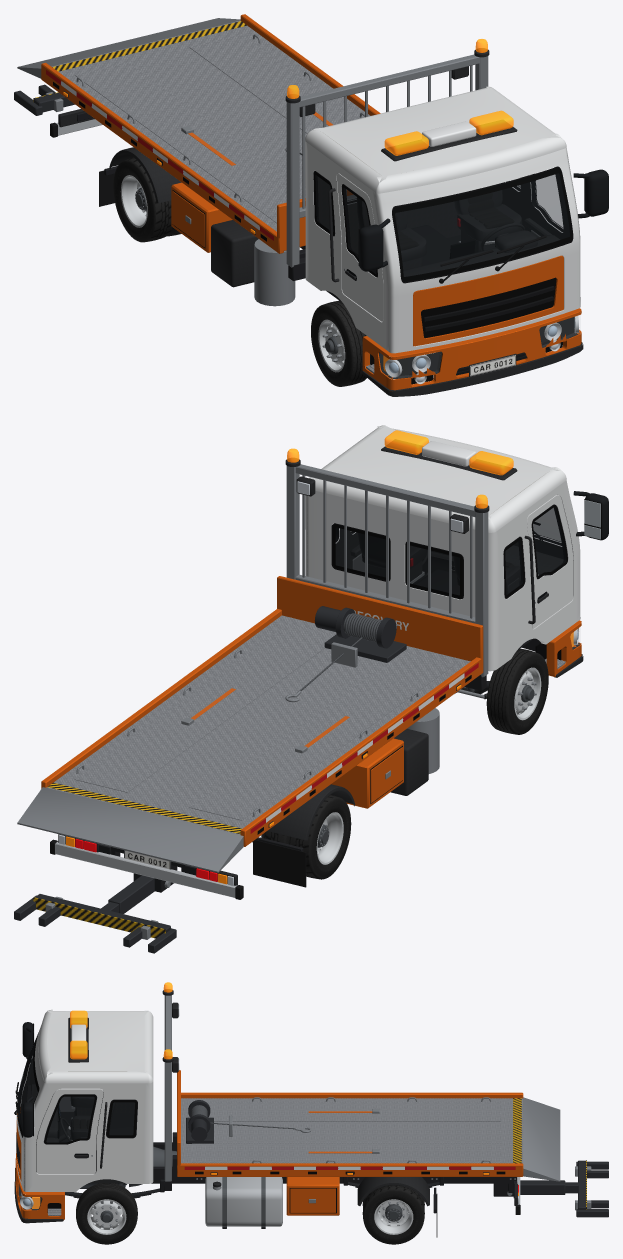
Rendered from recovery-truck.glb.
3 views of the same model, one above another, from view 1: azimuth 30°, elevation 25°; view 2: azimuth 150°, elevation 25°; view 3: azimuth 270°, elevation 25° (orthographic). The views are drawn at different scales.
Visible parts, largest first — view 1: Body, Bed, Wheel_1_Right, Wheel_2_Right, Under_Lift; view 2: Bed, Body, Under_Lift, Wheel_1_Right, Wheel_2_Right; view 3: Body, Bed, Wheel_1_Left, Wheel_2_Left, Under_Lift.
Part boxes in pixels (bbox=[...]): Body: bbox=[50, 39, 608, 396]; Bed: bbox=[17, 14, 380, 253]; Wheel_1_Right: bbox=[311, 300, 370, 386]; Wheel_2_Right: bbox=[113, 157, 181, 242]; Under_Lift: bbox=[14, 84, 74, 115]; Bed: bbox=[17, 576, 483, 872]; Body: bbox=[50, 425, 608, 899]; Under_Lift: bbox=[14, 875, 176, 953]; Wheel_1_Right: bbox=[486, 648, 548, 734]; Wheel_2_Right: bbox=[264, 794, 351, 879]; Body: bbox=[14, 982, 520, 1237]; Bed: bbox=[177, 1070, 560, 1181]; Wheel_1_Left: bbox=[76, 1183, 137, 1244]; Wheel_2_Left: bbox=[362, 1185, 424, 1244]; Under_Lift: bbox=[520, 1160, 608, 1217].
Size of the model in its own units: 2.8 by 2.89 by 8.05.
67 materials, 17 textured.
